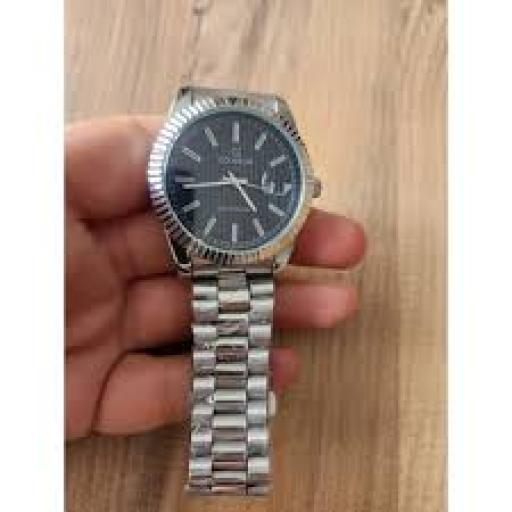KolSaati: (121, 45, 338, 501)
